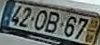2: (18, 6, 32, 28)
4: (10, 5, 21, 27)
6: (63, 15, 77, 37)
7: (74, 17, 89, 40)
B: (43, 10, 60, 34)
O: (33, 9, 48, 31)
